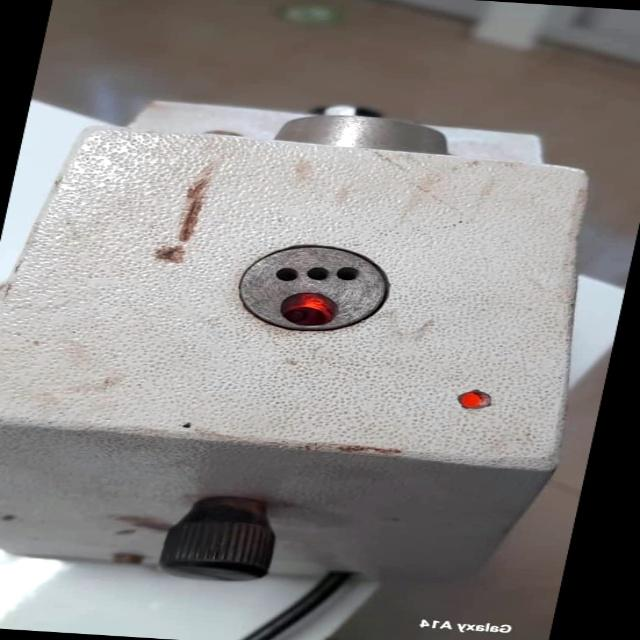Melting Point Apparatus: (0, 85, 630, 614)
